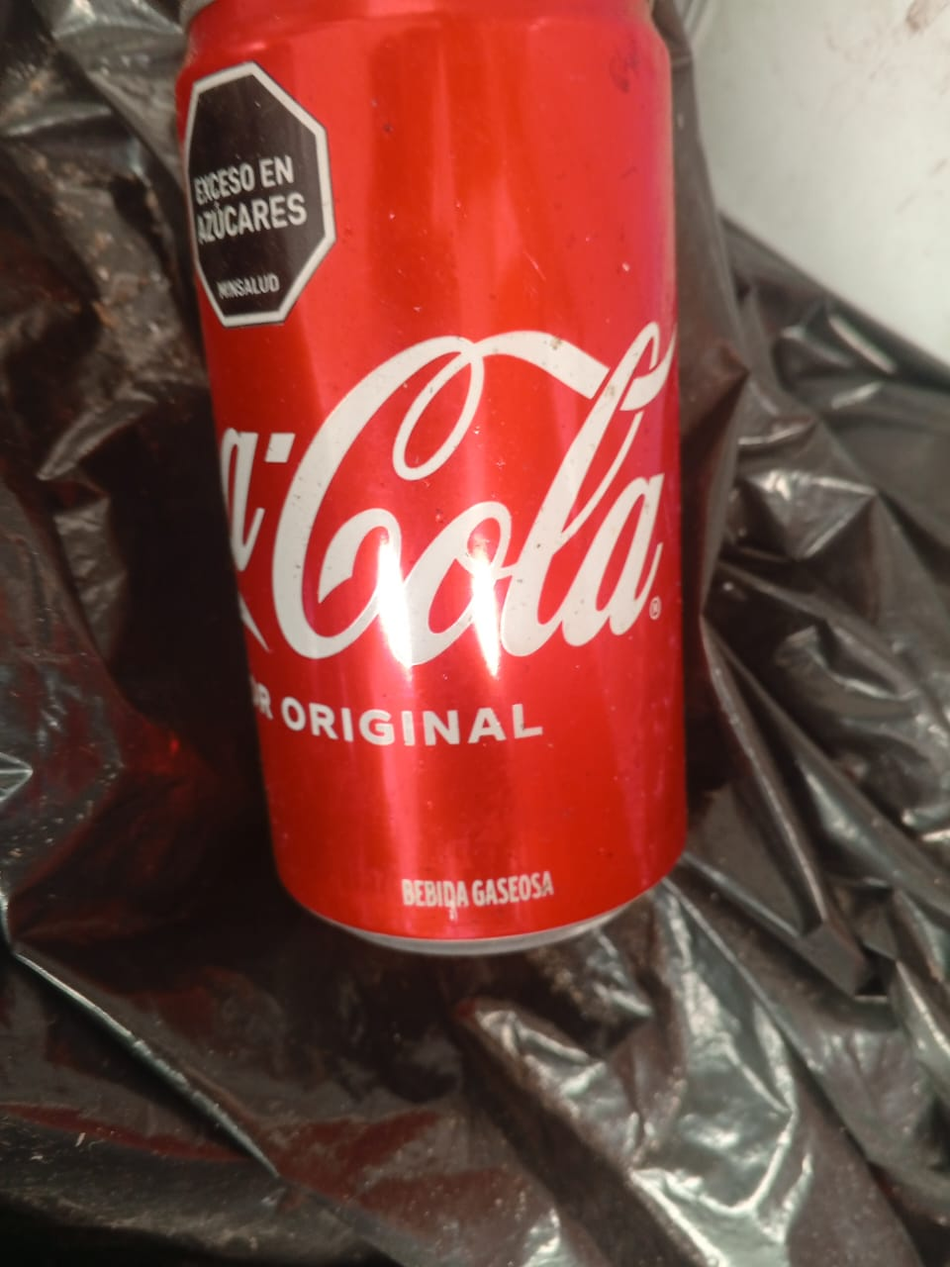Metal: (182, 0, 684, 951)
